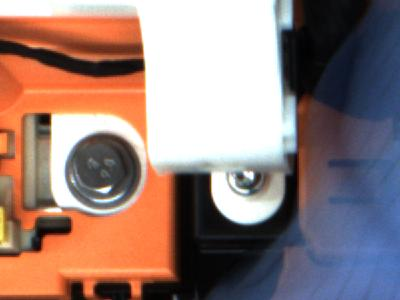nut_b: (62, 132, 144, 217)
